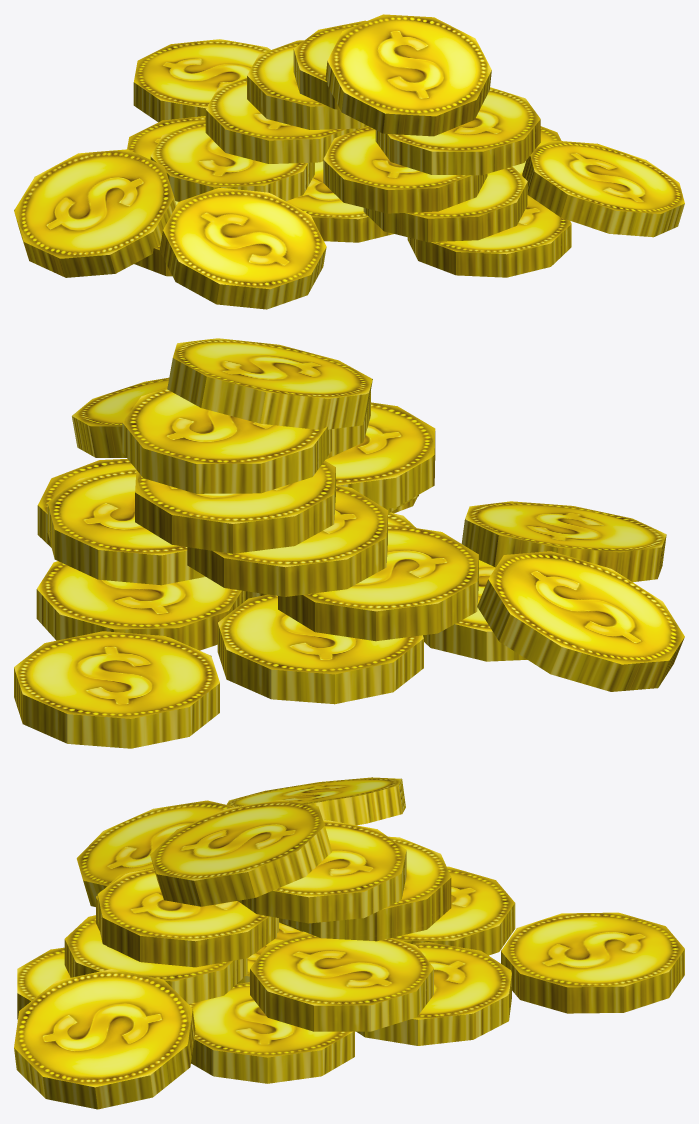
Rendered from coin_016.fbx.
The picture shows the model from 3 angles, top to bottom: view 1: azimuth 30°, elevation 25°; view 2: azimuth 150°, elevation 25°; view 3: azimuth 270°, elevation 25°; orthographic projection. The views are drawn at different scales.
Visible parts, largest first — view 1: coin_016; view 2: coin_016; view 3: coin_016.
Part boxes in pixels (left/top/right/bottom): coin_016: left=14, top=14, right=684, bottom=309; coin_016: left=14, top=338, right=684, bottom=748; coin_016: left=14, top=777, right=684, bottom=1109.
Size of the model in its own units: 16.52 by 4.63 by 15.5.
